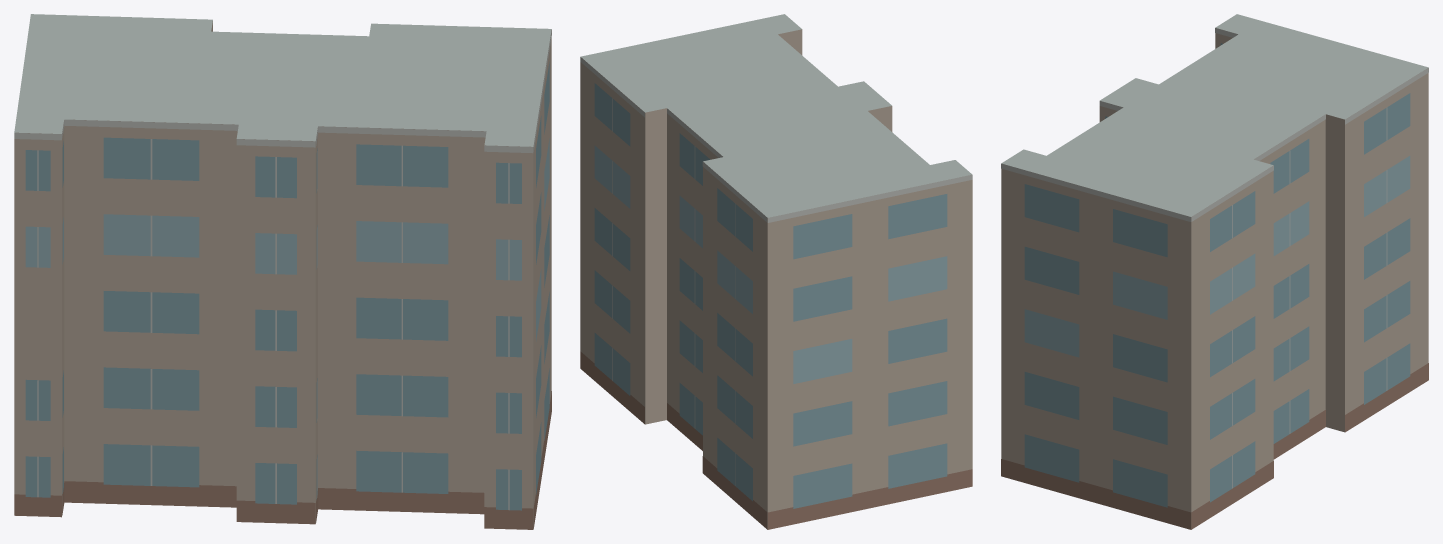
The model's file is survey-upis-32773954.glb.
3 views of the same model, side by side, from view 1: azimuth 30°, elevation 25°; view 2: azimuth 150°, elevation 25°; view 3: azimuth 270°, elevation 25° (orthographic). The views are drawn at different scales.
Parts seen in each view (by area): view 1: survey-upis-32773954.tmp; view 2: survey-upis-32773954.tmp; view 3: survey-upis-32773954.tmp.
Boxes of the visible parts, x1,y1,x2,y2 form: survey-upis-32773954.tmp: [14, 14, 551, 529]; survey-upis-32773954.tmp: [580, 14, 972, 529]; survey-upis-32773954.tmp: [1001, 14, 1428, 529].
Bounding box in the file's own units: 20.54 × 14.75 × 18.28.
